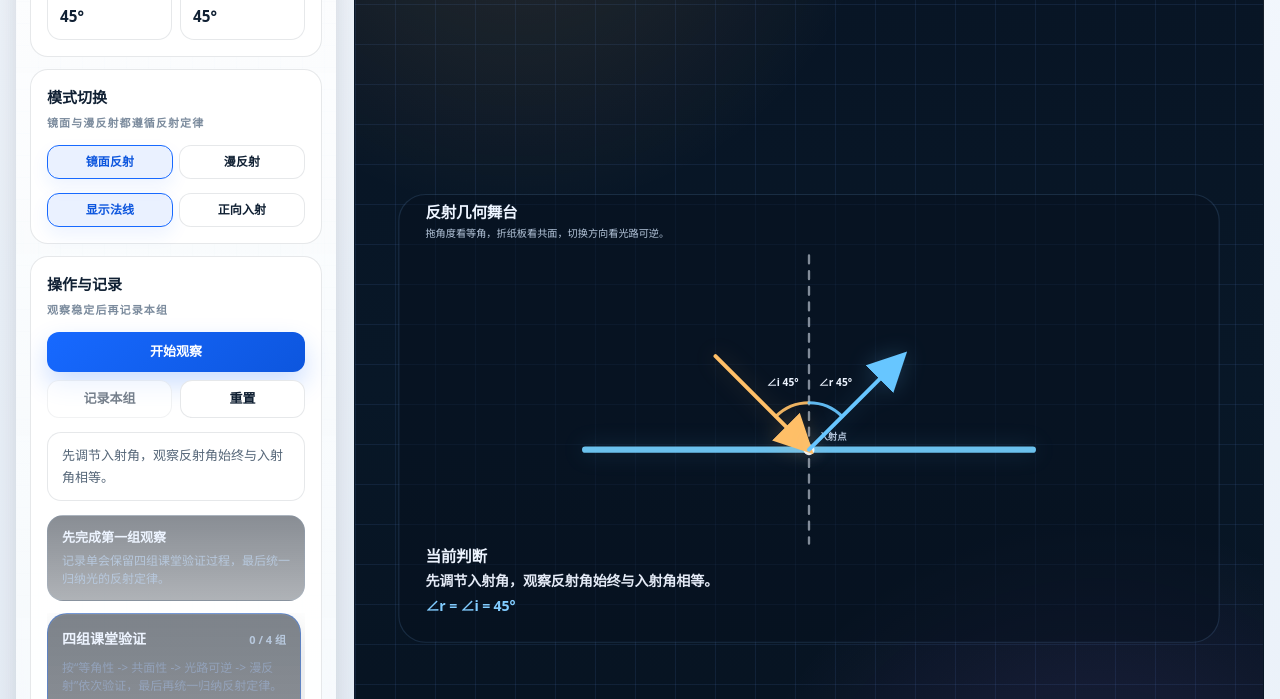
Test case: LightReflectionLab › invalidates the stable reading after changing the incident angle
(page scrolled)
Click the button "开始观察". click: (176, 352)
box: top-left (47, 332), bottom-right (305, 372)
Wait 1000 ms
(page scrolled)
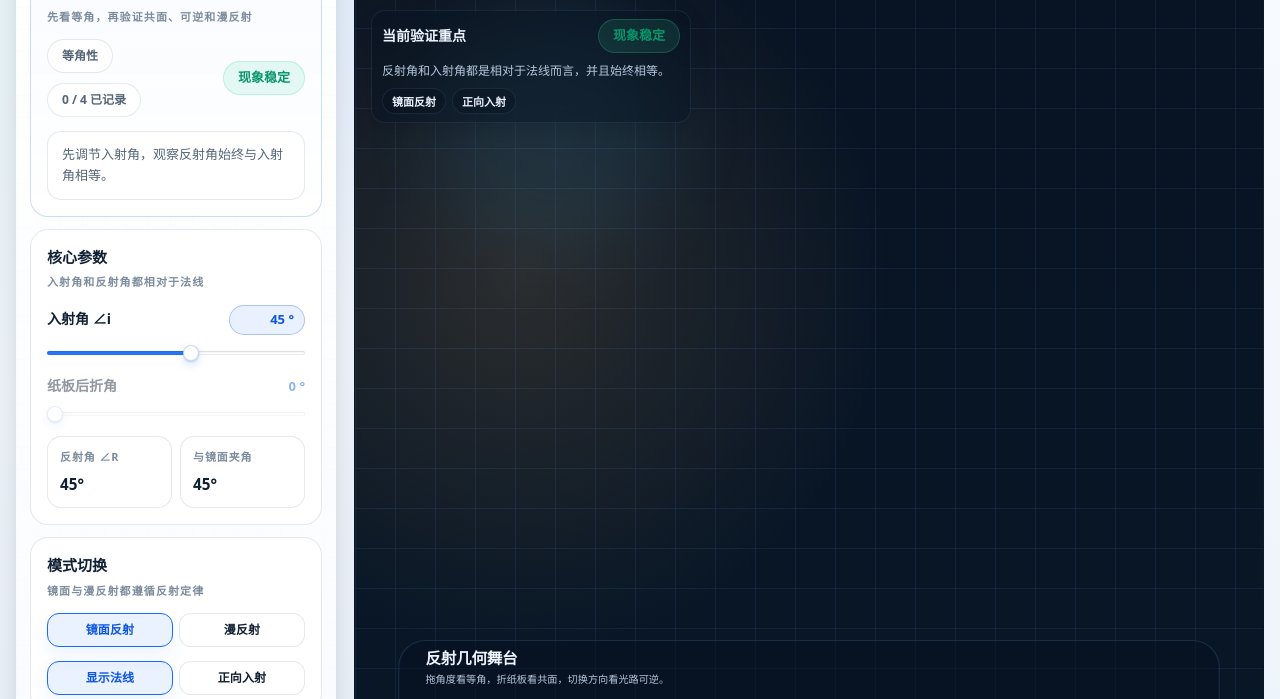
Set the slider labelled "入射角 ∠i" to "60". click: (236, 353)
box: top-left (47, 345), bottom-right (305, 361)
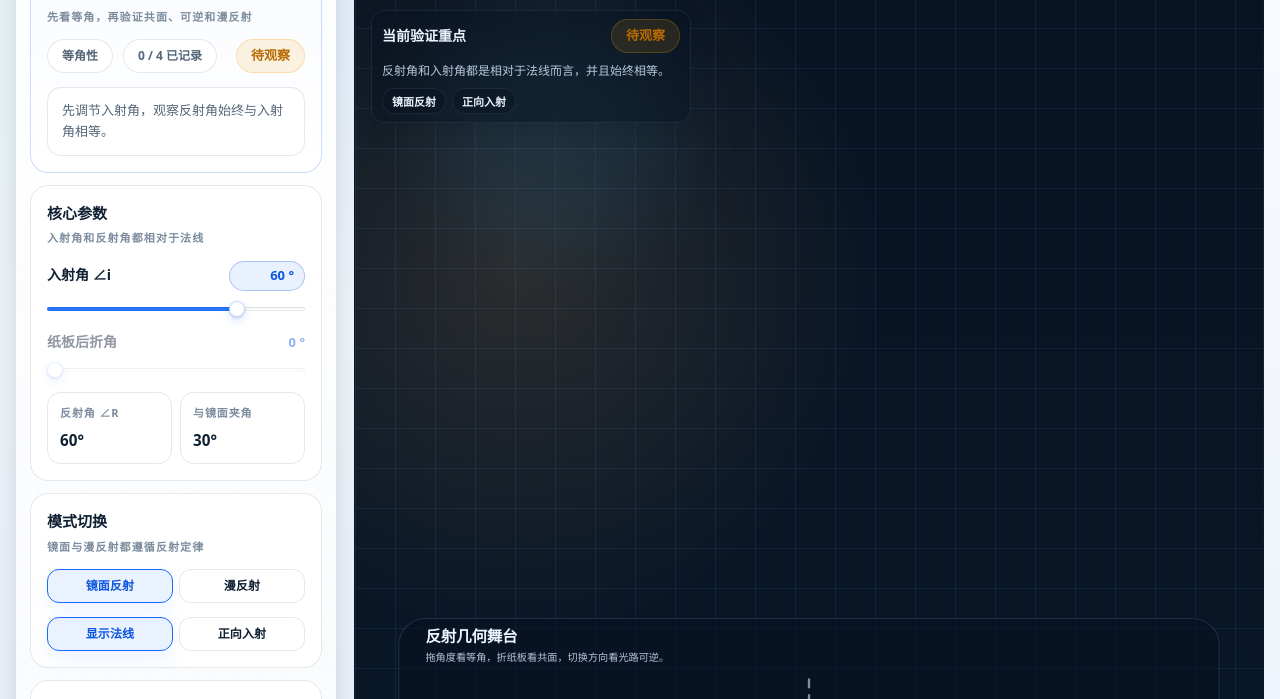
Result: the text "待观察" next to "0 / 4 已记录" is shown at top-left (251, 46), bottom-right (290, 64)
